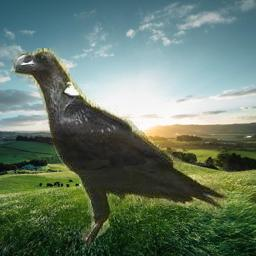Crow: (10, 49, 229, 250)
